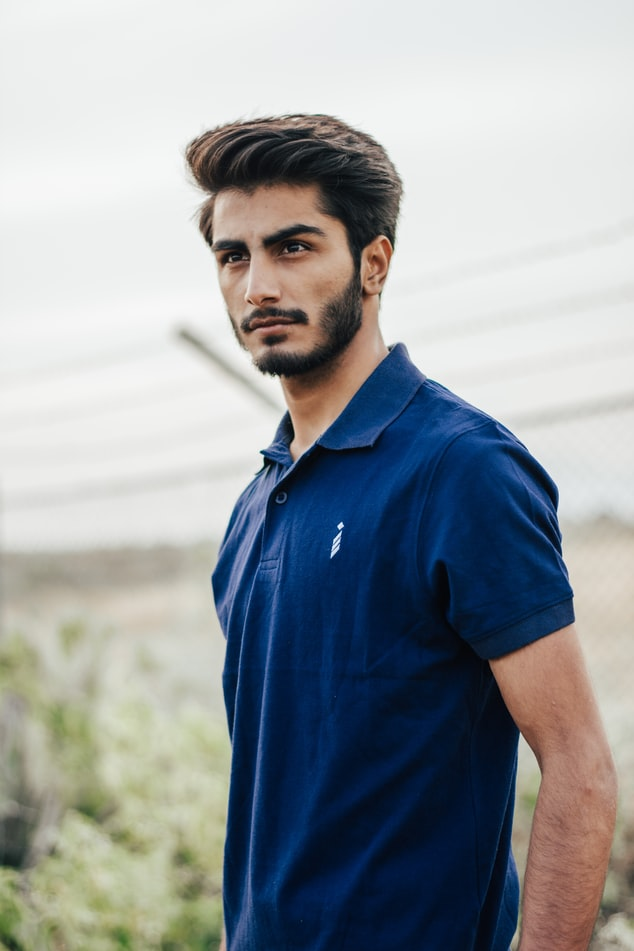beard: (226, 293, 371, 371)
